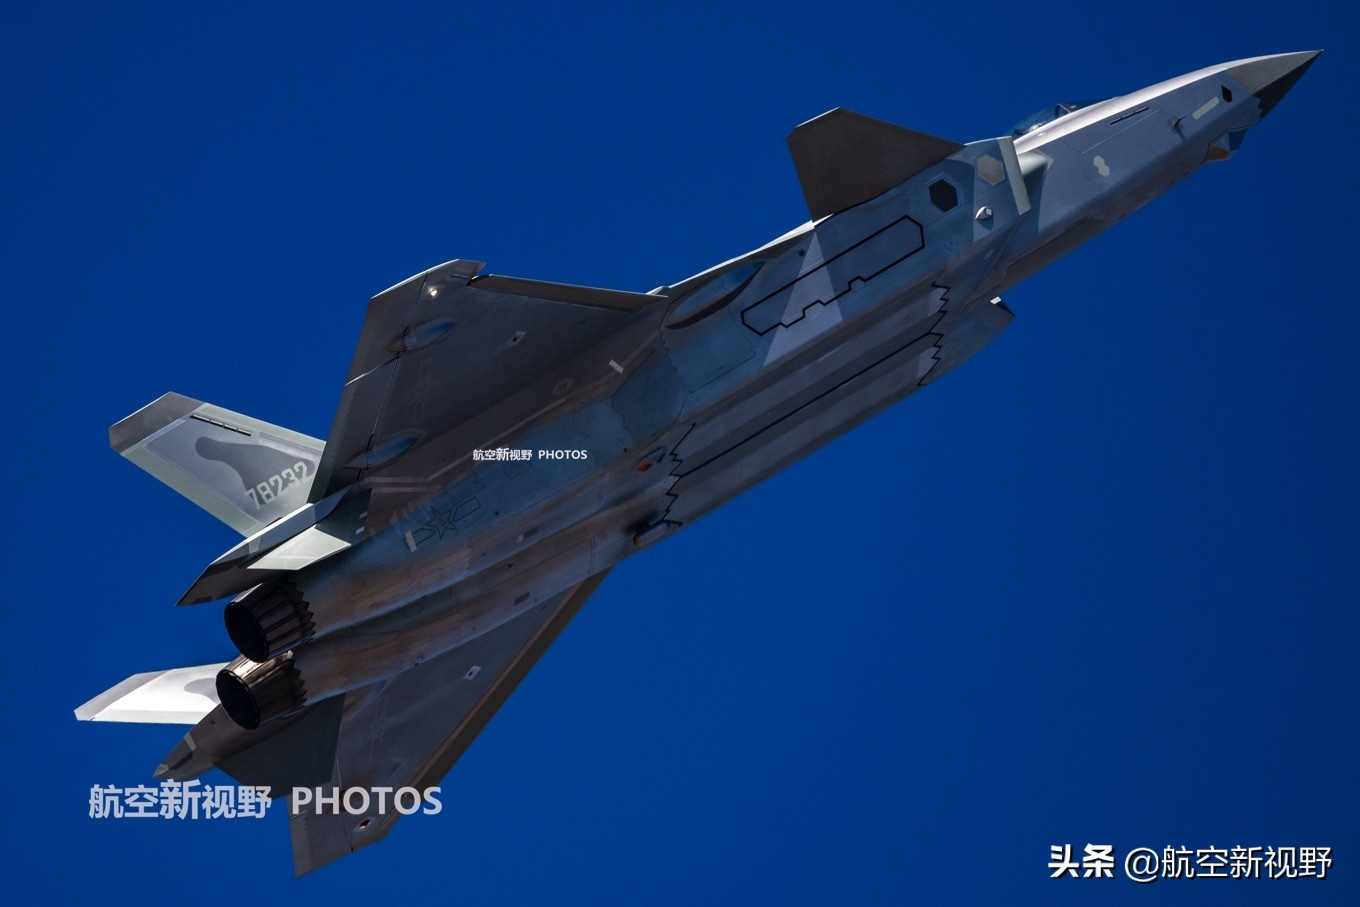airplane: (51, 45, 1334, 875)
